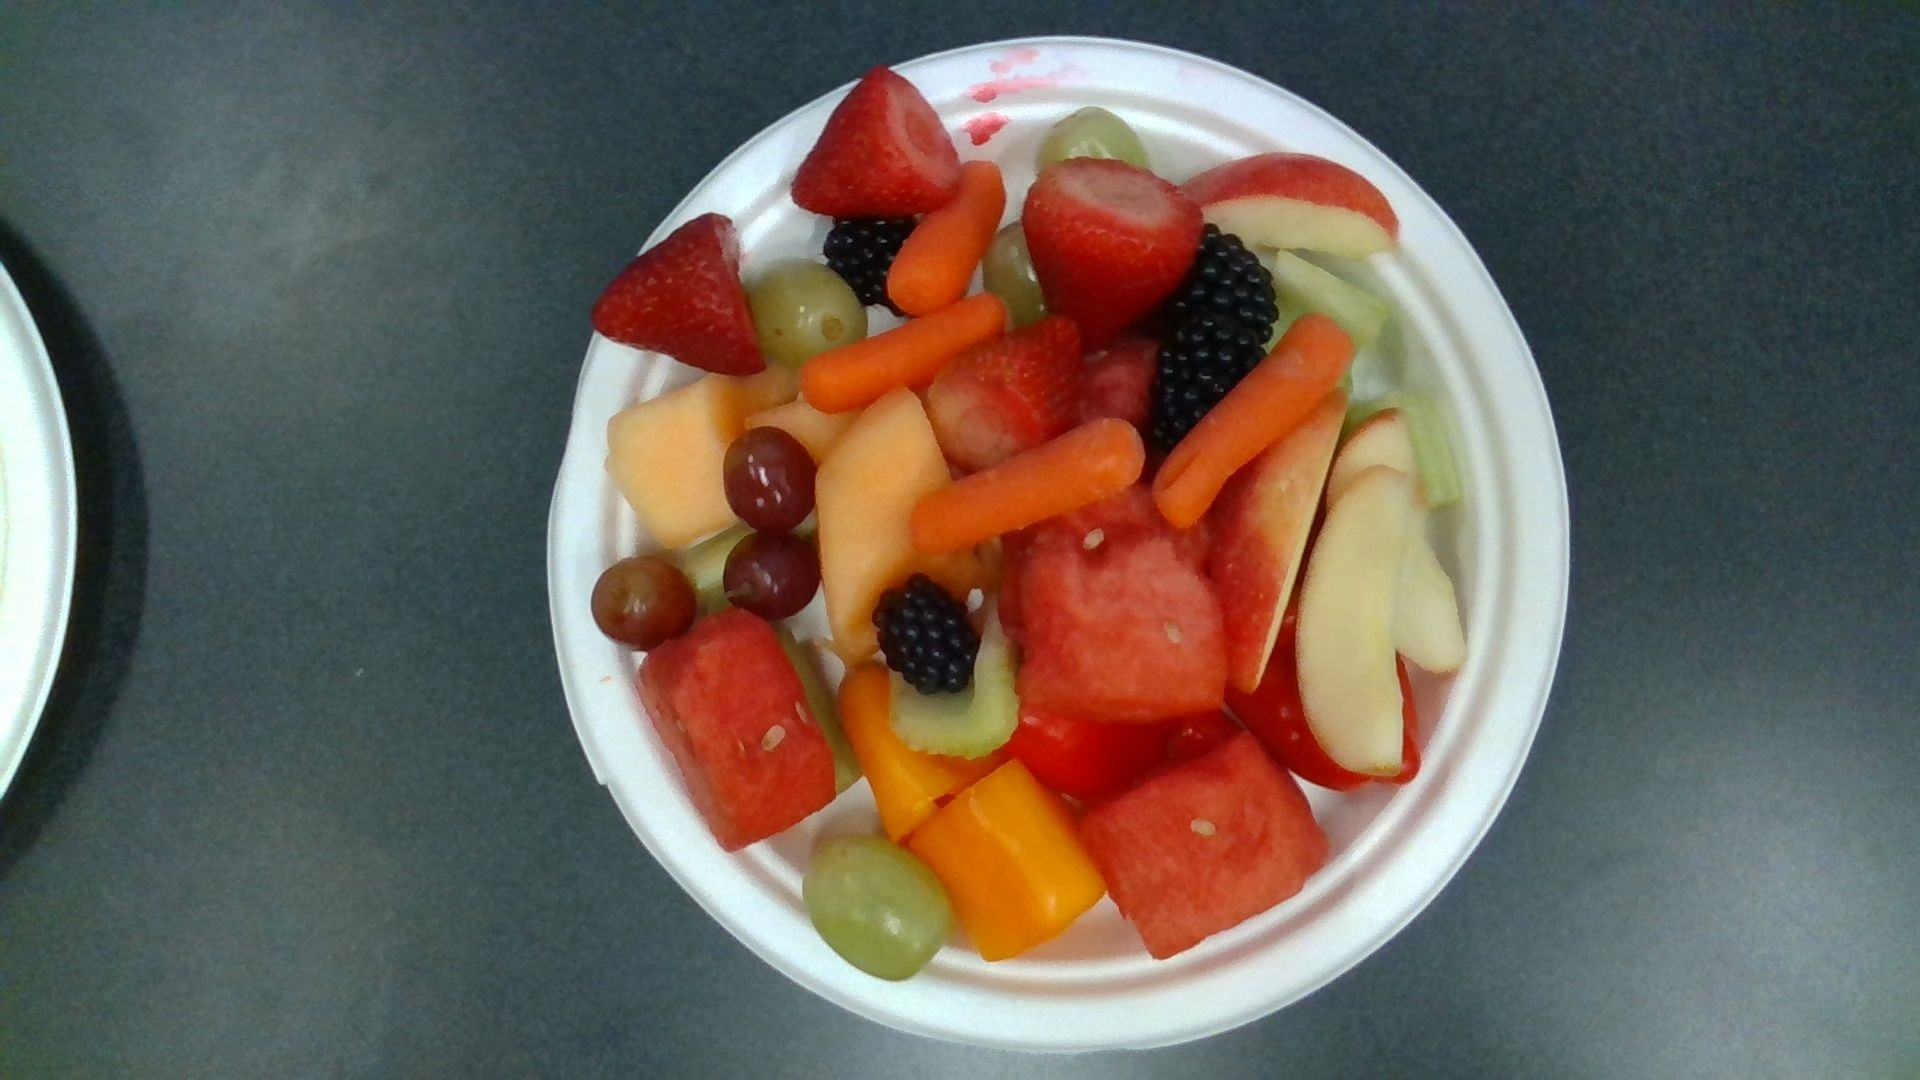apple: (1212, 385, 1349, 694), (1300, 465, 1408, 778), (1185, 156, 1396, 243)
bell_pepper: (914, 761, 1102, 955)
blackberry: (1145, 231, 1274, 345), (876, 578, 978, 695)
cantalope: (818, 393, 949, 659), (611, 376, 752, 545)
carrot: (1155, 316, 1350, 527), (913, 419, 1145, 553), (800, 293, 1009, 415), (889, 165, 1004, 310)
grape_green: (807, 840, 947, 978), (752, 265, 866, 361)
grape_purple: (727, 429, 819, 533), (589, 560, 699, 641)
melon: (1084, 738, 1331, 956), (1022, 491, 1229, 716), (642, 613, 837, 848)
strawberry: (1022, 164, 1204, 345), (599, 218, 767, 378), (794, 71, 964, 215), (927, 316, 1084, 465)
